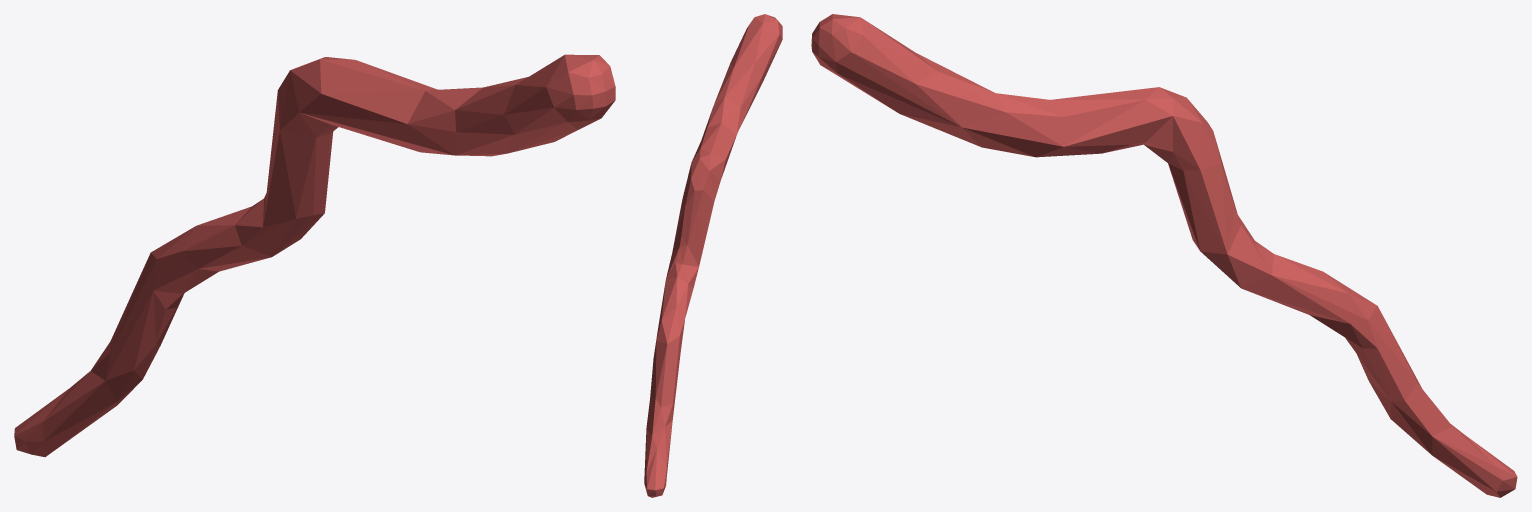
The picture shows the model from 3 angles, left to right: view 1: azimuth 30°, elevation 25°; view 2: azimuth 150°, elevation 25°; view 3: azimuth 270°, elevation 25°; orthographic projection. The views are drawn at different scales.
Parts seen in each view (by area): view 1: FJ2653; view 2: FJ2653; view 3: FJ2653.
Part boxes in pixels (x1,y1,x2,y2): FJ2653: (14, 54, 615, 456); FJ2653: (644, 14, 782, 497); FJ2653: (811, 14, 1517, 497).
Size of the model in its own units: 3.09 by 8.86 by 10.35.
